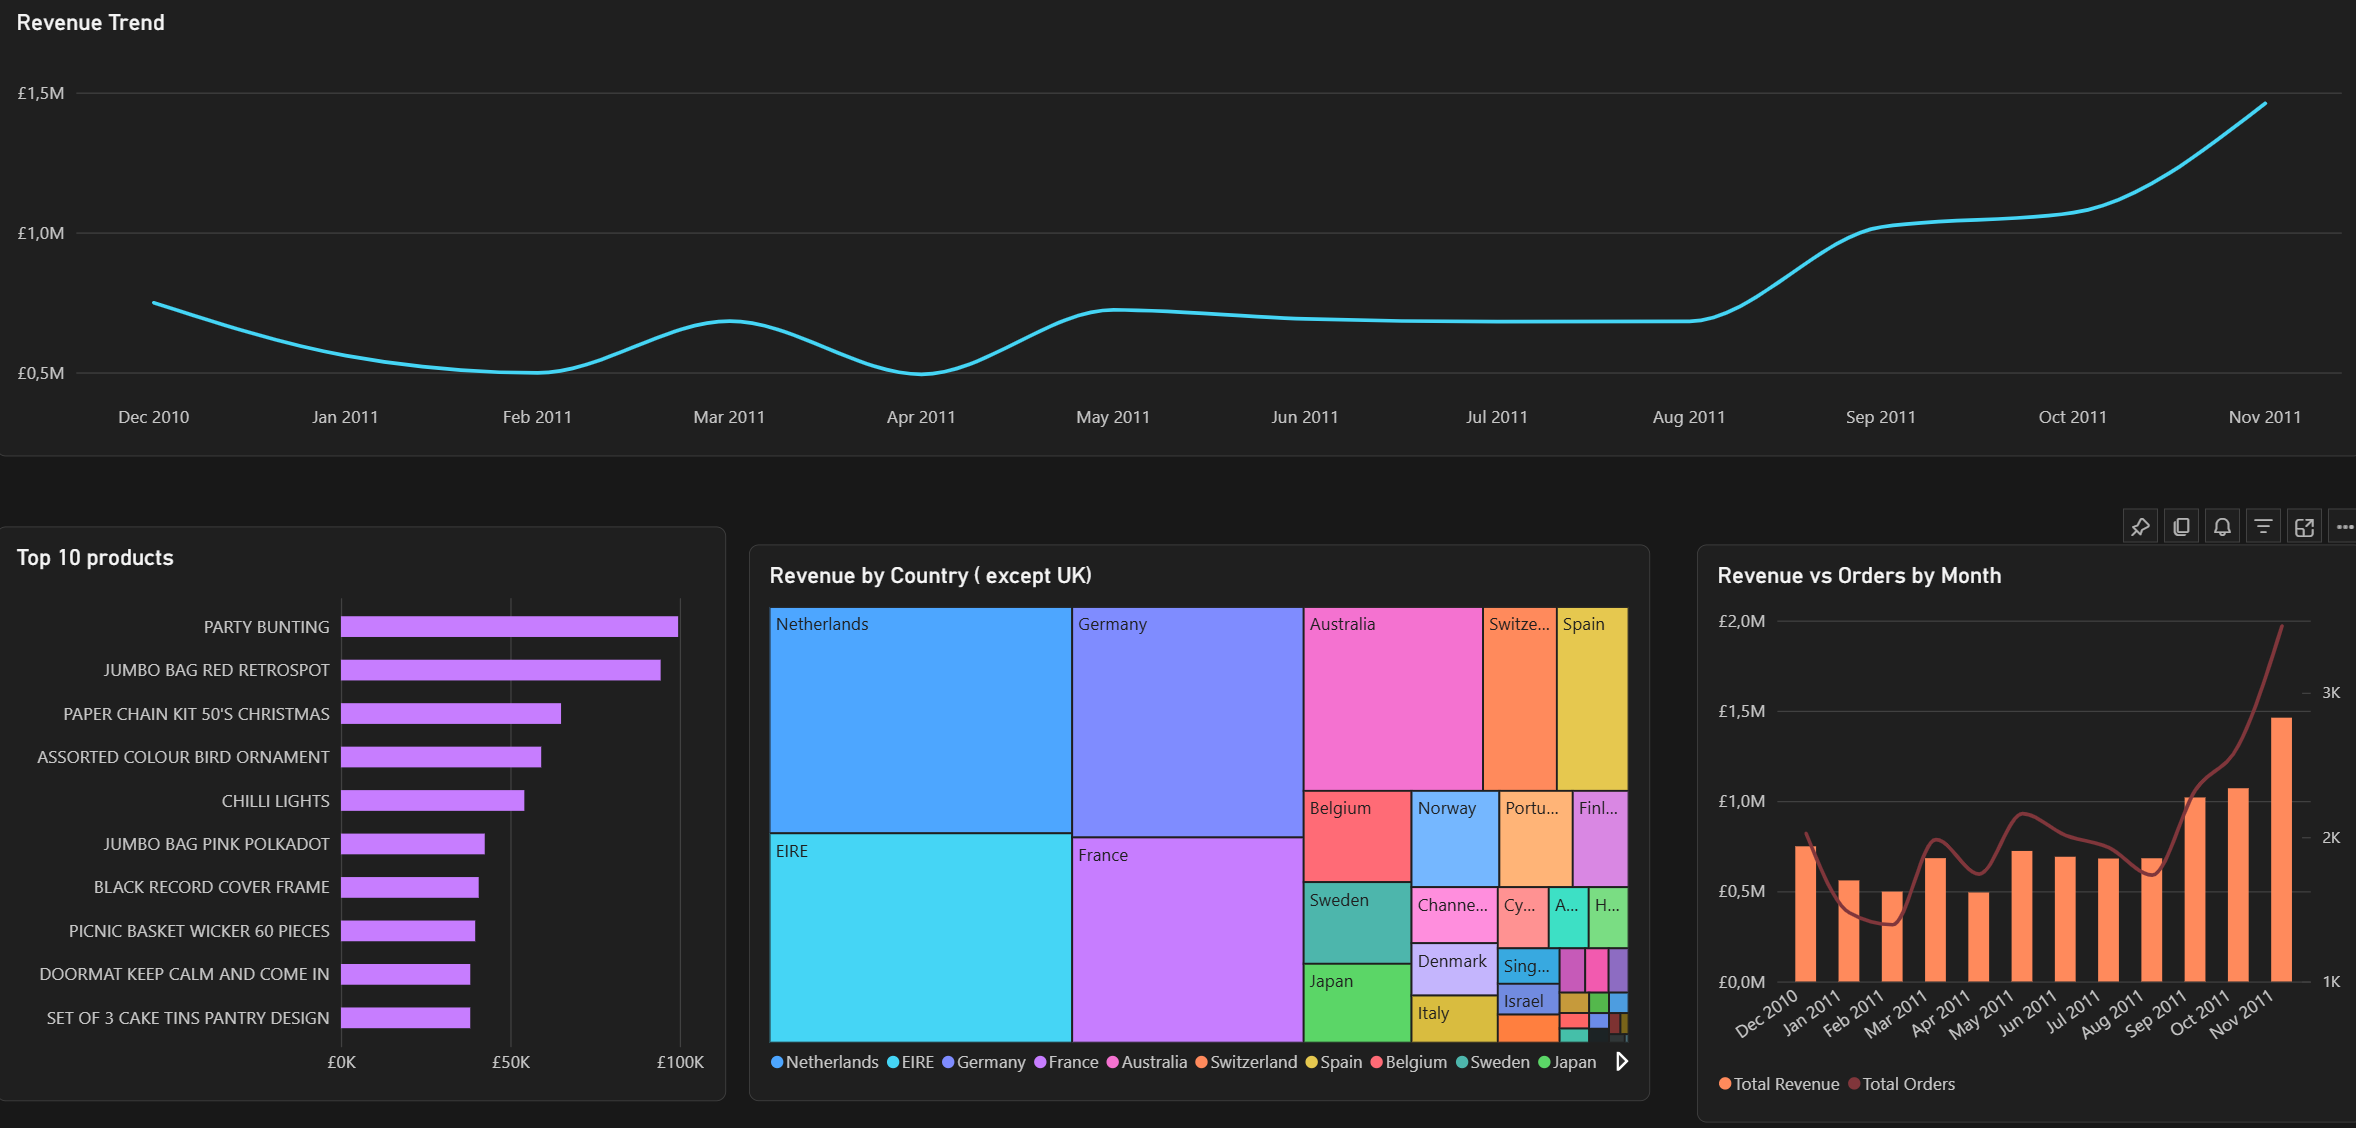

Layout of this report page (visuals, bound fields, positions):
{"tool":"powerbi","page":{"name":"Executive Sales Overview","canvas":[1920,1080],"ordinal":0},"visuals":[{"type":"lineChart","title":"Revenue Trend","fields":{"Category":["DimCalendar.Month_Year"],"Y":["Sales.Total Revenue"]},"box":[0,0,1919.6,377.3],"z":0},{"type":"treemap","title":"Revenue by Country ( except UK)","fields":{"Group":["DimCountry.Country"],"Values":["Sales.Total Revenue"]},"box":[610.3,449.4,730.5,451.2],"z":1000},{"type":"barChart","title":"Top 10 products","fields":{"Category":["DimProduct.Description"],"Y":["Sales.Sales Revenue Valid"]},"box":[0,434.6,591.8,466],"z":2000},{"type":"lineStackedColumnComboChart","title":"Revenue vs Orders by Month","fields":{"Category":["DimCalendar.Month_Year"],"Y":["Sales.Total Revenue"],"Y2":["Sales.Total Orders"]},"box":[1379.6,449.4,540.5,468.6],"z":3000}]}

Visuals, with their boxes on the page's 1920x1080 design canvas (x1, y1, x2, y2). These are canvas units, not pixel positions in the 2356x1128 screenshot, which may show the page scaled, cropped or inside an application window:
"Revenue Trend" lineChart: detection(0, 0, 1920, 377)
"Revenue by Country ( except UK)" treemap: detection(610, 449, 1341, 901)
"Top 10 products" barChart: detection(0, 435, 592, 901)
"Revenue vs Orders by Month" lineStackedColumnComboChart: detection(1380, 449, 1920, 918)
